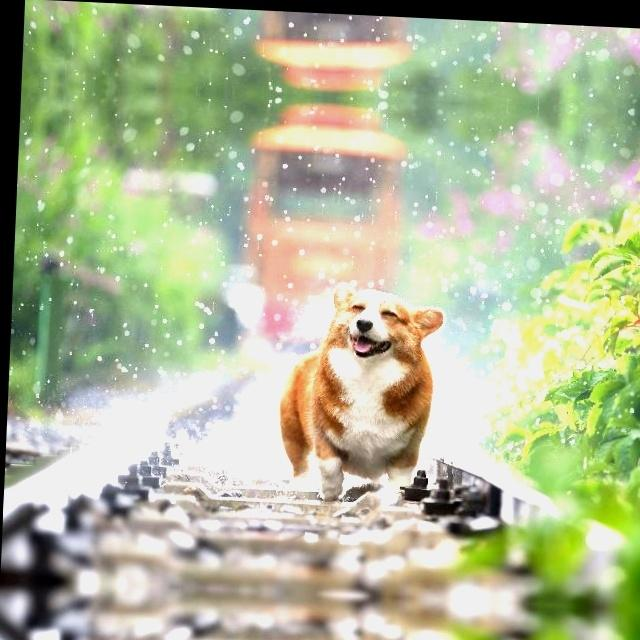dog: (250, 256, 473, 498)
